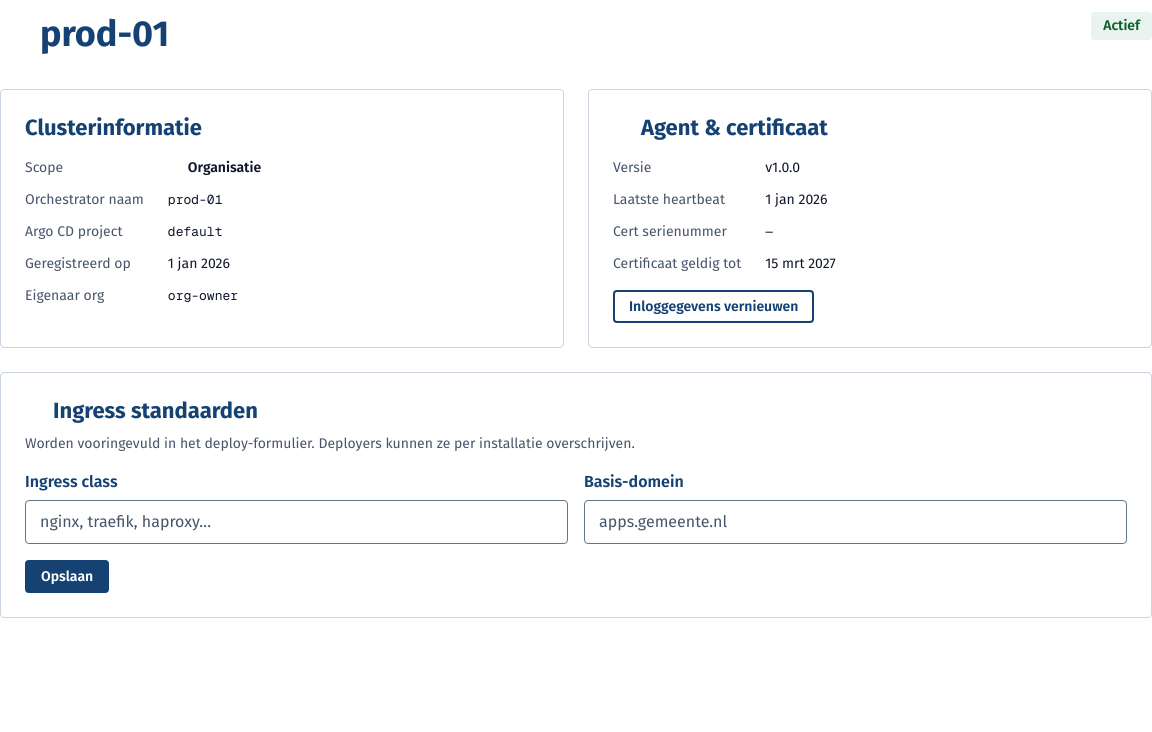
cluster credential rotation control › shows the error when the request fails
This screenshot has width=1152, height=732.
What coordinates should you click on to do the following:
click the button with test id "rotate-credential"
I would click on:
 (714, 306)
Its box is [613, 290, 814, 323].
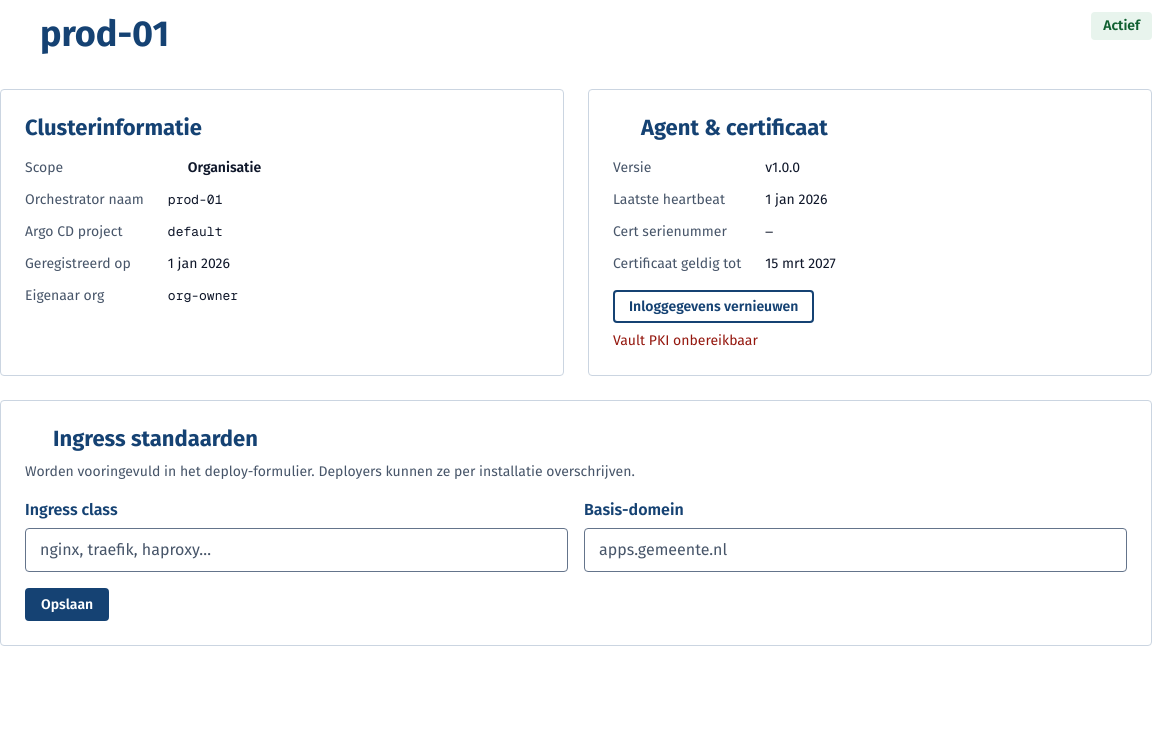
Now the message "Vault PKI onbereikbaar" is shown, box [613, 332, 758, 349]
